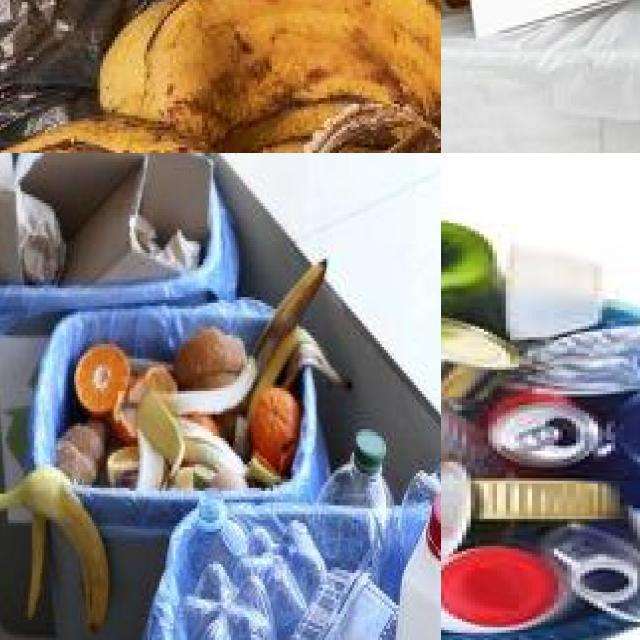Garbage: (4, 0, 441, 153), (0, 328, 282, 503), (176, 501, 399, 640), (0, 153, 211, 284), (251, 331, 337, 454), (254, 259, 326, 371), (395, 468, 441, 640), (317, 429, 393, 506), (251, 387, 301, 476)
Plastic: (235, 520, 326, 640), (293, 568, 397, 640), (183, 564, 277, 640), (395, 492, 441, 640), (188, 496, 248, 576)
contaminated_waste: (441, 224, 640, 640), (441, 239, 640, 640), (182, 501, 397, 640), (395, 490, 441, 640), (320, 429, 391, 506), (404, 464, 441, 507)
top_view_waste: (441, 212, 640, 640)
